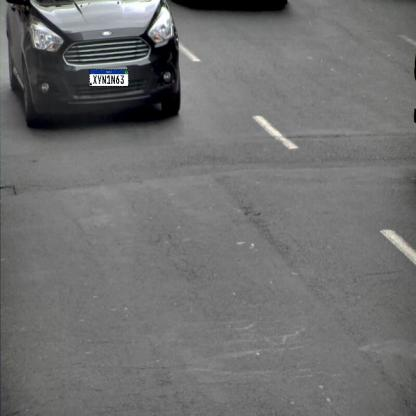PlacaM: (89, 69, 129, 87)
